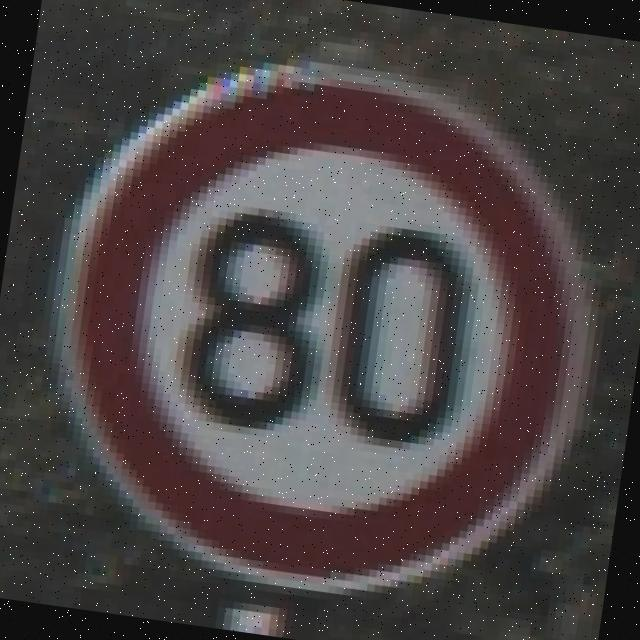Ograniczenie predkosci do 80: (41, 42, 602, 610)
